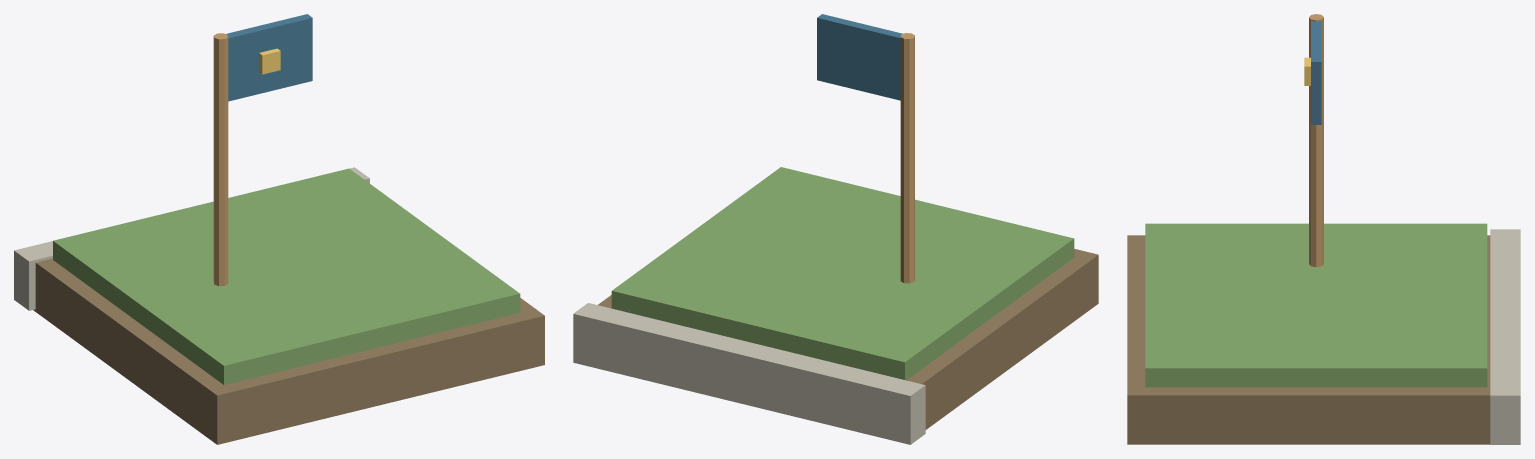
The model's file is 19_CoHieuXanh.glb.
The picture shows the model from 3 angles, left to right: view 1: azimuth 30°, elevation 25°; view 2: azimuth 150°, elevation 25°; view 3: azimuth 270°, elevation 25°; orthographic projection.
Visible parts, largest first — view 1: grass, soil, flag, pole, border; view 2: grass, border, soil, flag, pole; view 3: grass, soil, border, pole, flag.
Boxes of the visible parts, x1=… form: grass: x1=53, y1=168, x2=520, y2=384; soil: x1=33, y1=258, x2=544, y2=444; flag: x1=226, y1=14, x2=312, y2=101; pole: x1=213, y1=33, x2=228, y2=286; border: x1=14, y1=167, x2=369, y2=310; grass: x1=611, y1=167, x2=1074, y2=380; border: x1=573, y1=303, x2=925, y2=444; soil: x1=598, y1=249, x2=1098, y2=429; flag: x1=817, y1=14, x2=902, y2=100; pole: x1=900, y1=33, x2=914, y2=283; grass: x1=1145, y1=223, x2=1487, y2=387; soil: x1=1127, y1=235, x2=1490, y2=444; border: x1=1490, y1=229, x2=1520, y2=444; pole: x1=1309, y1=14, x2=1323, y2=267; flag: x1=1311, y1=21, x2=1321, y2=124.
Size of the model in its own units: 1.3 by 1.15 by 1.3.
